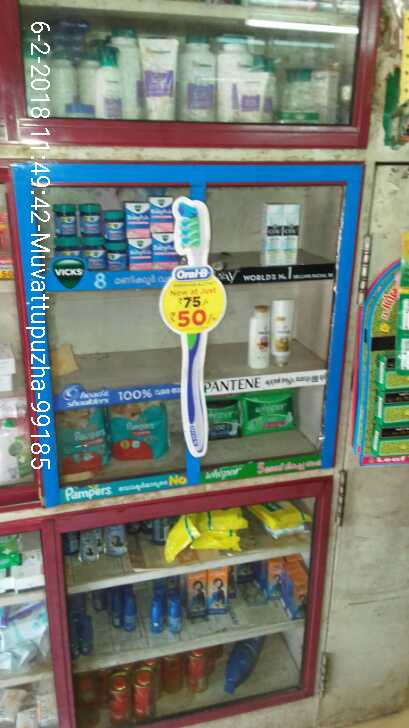vicks: (53, 192, 178, 274)
